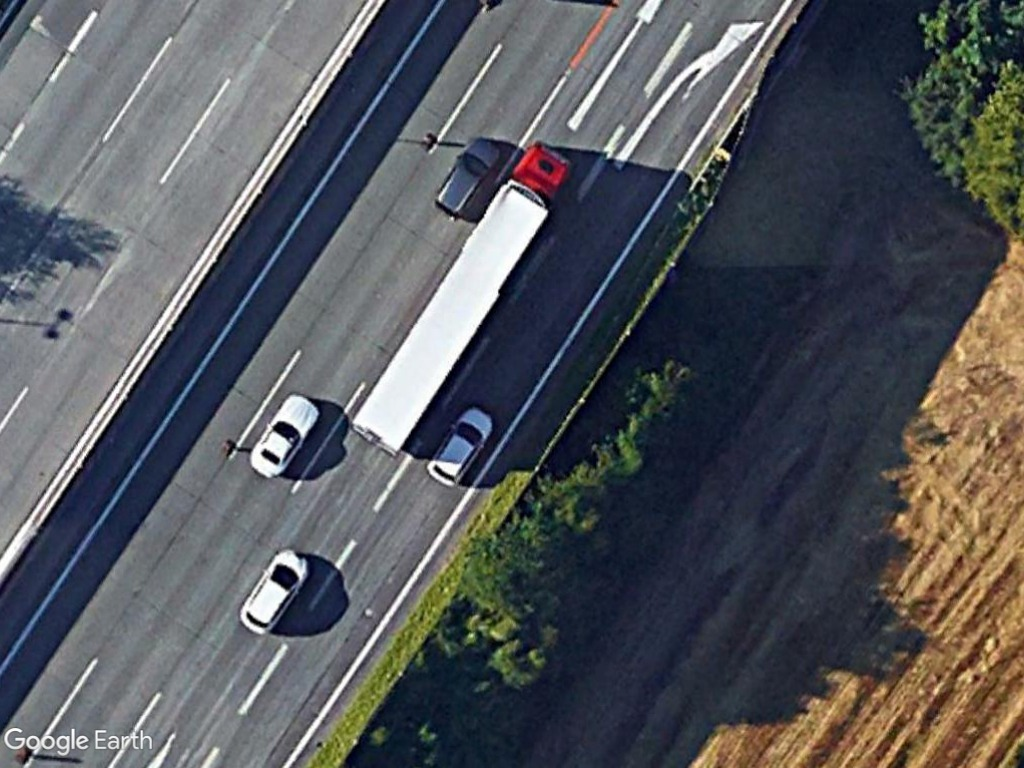car: (233, 537, 312, 643), (243, 386, 322, 484), (422, 394, 495, 490), (430, 128, 505, 221)
longvehicle: (343, 132, 571, 462)
